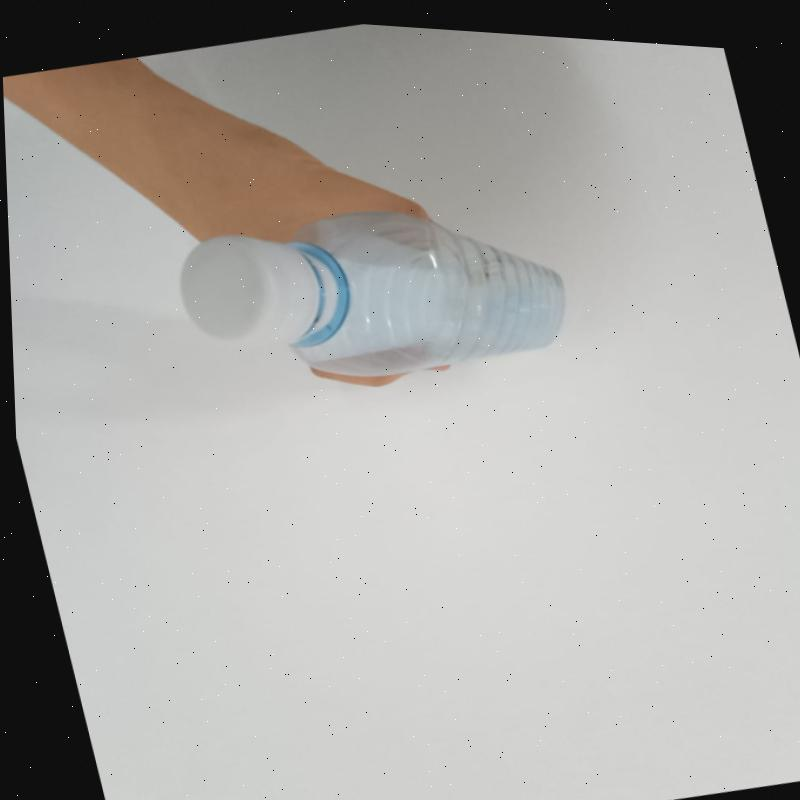botella: (153, 141, 593, 434)
